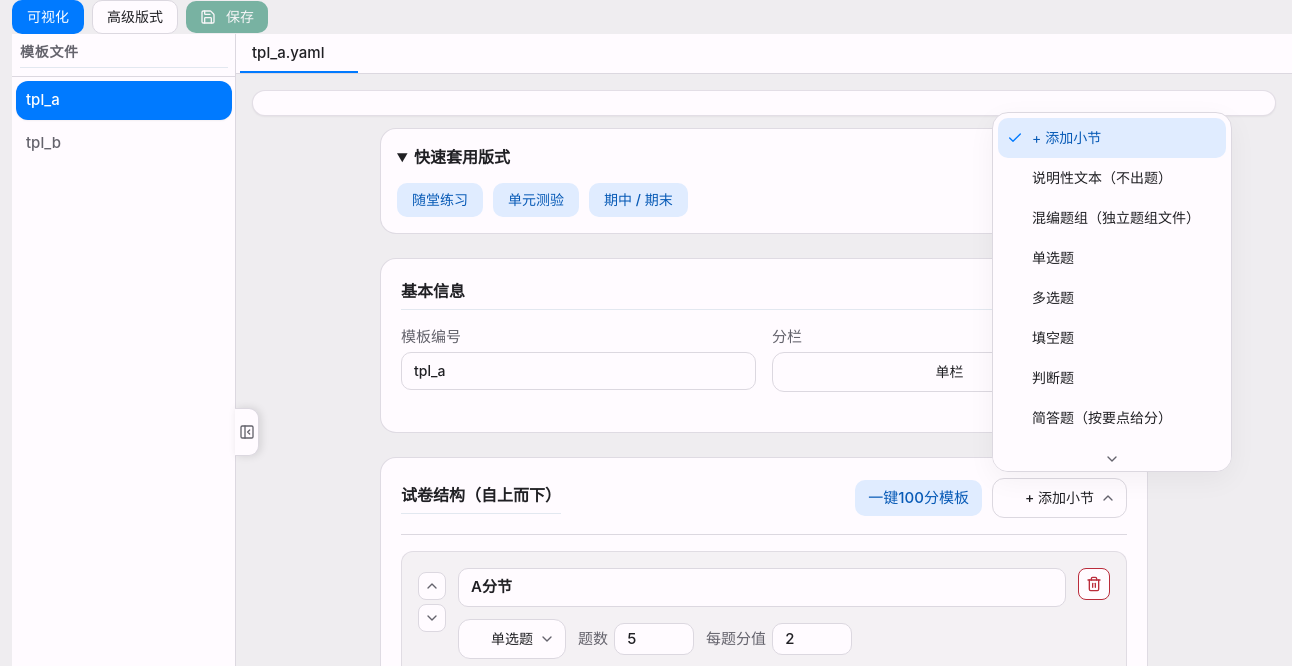
Test: TemplateWorkspace async coordination › allows user to add, configure, and remove sections
Earlier steps of the test are not shown.
Click the option "单选题". click: x=1053, y=258
box: x1=1032 y1=249 x2=1074 y2=266
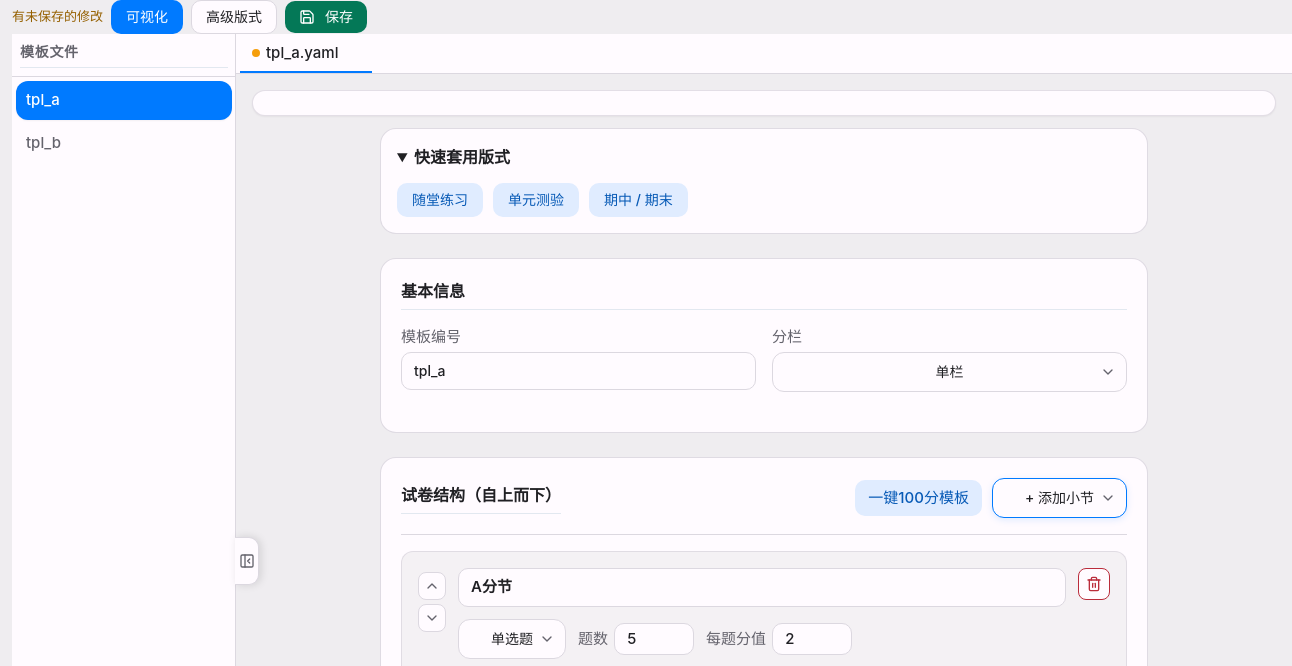
Click the dropdown labelled "+ 添加小节". click: x=1059, y=498
box: x1=992 y1=478 x2=1127 y2=518
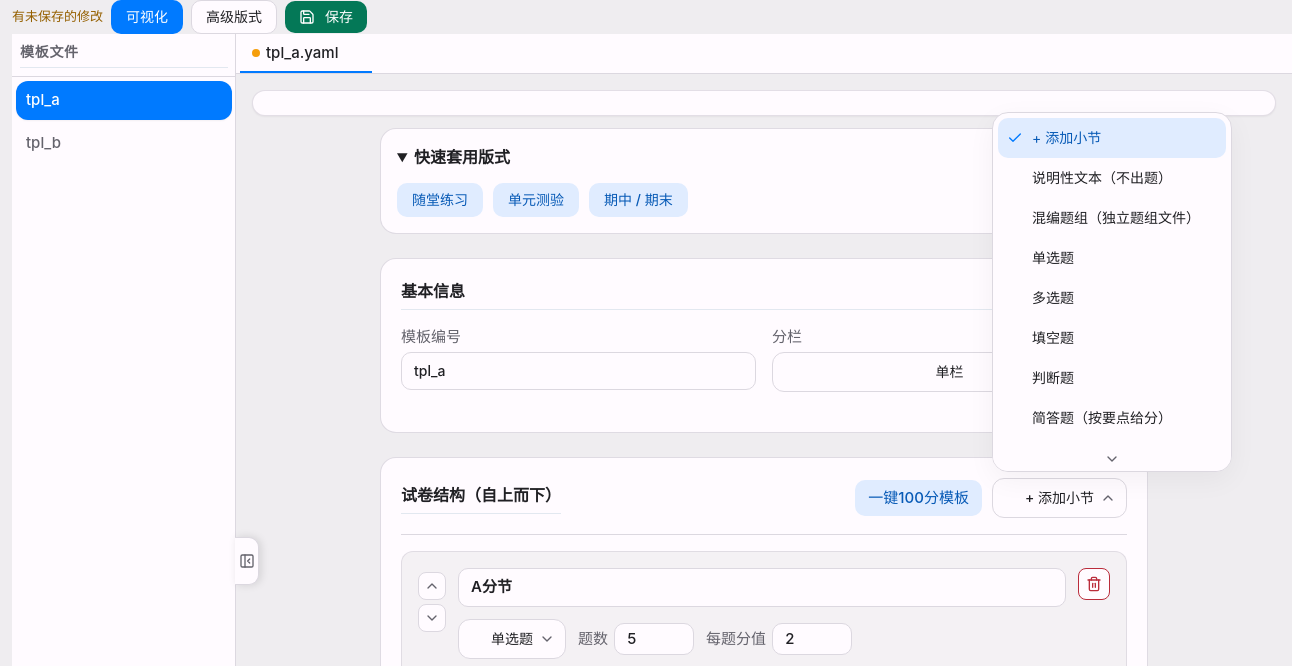
Click the option "单选题". click: x=1053, y=258
box: x1=1032 y1=249 x2=1074 y2=266
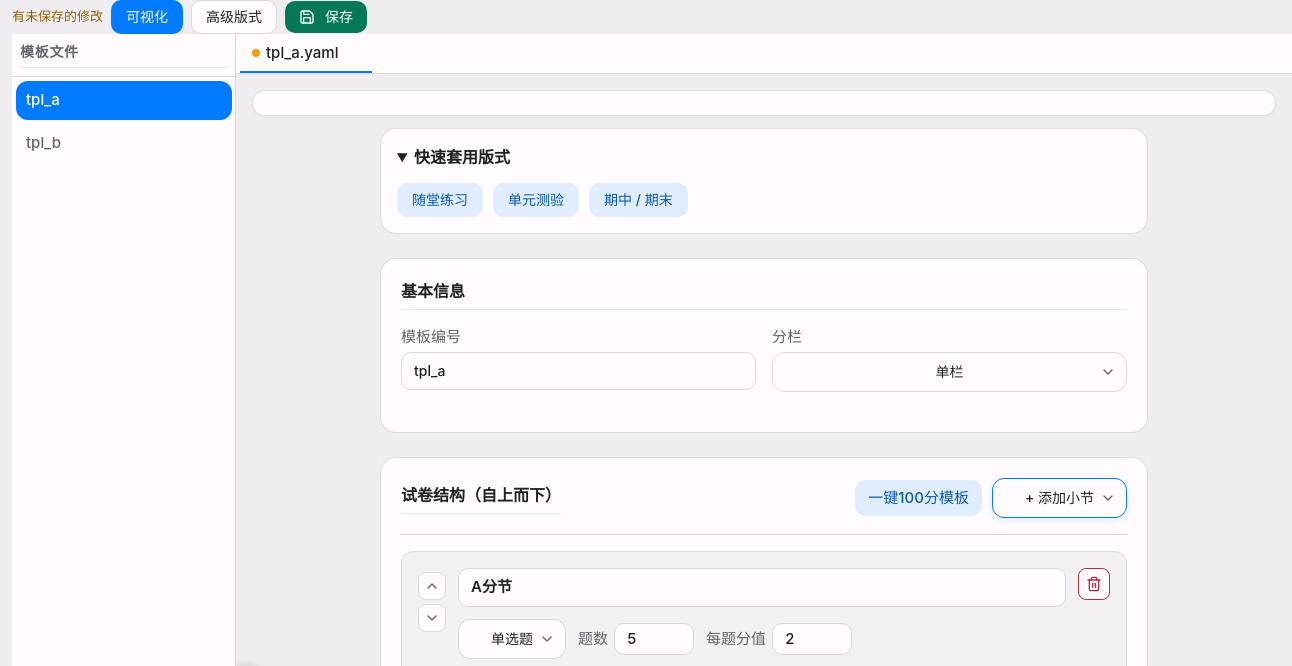
Click the dropdown labelled "+ 添加小节". click: x=1059, y=498
box: x1=992 y1=478 x2=1127 y2=518
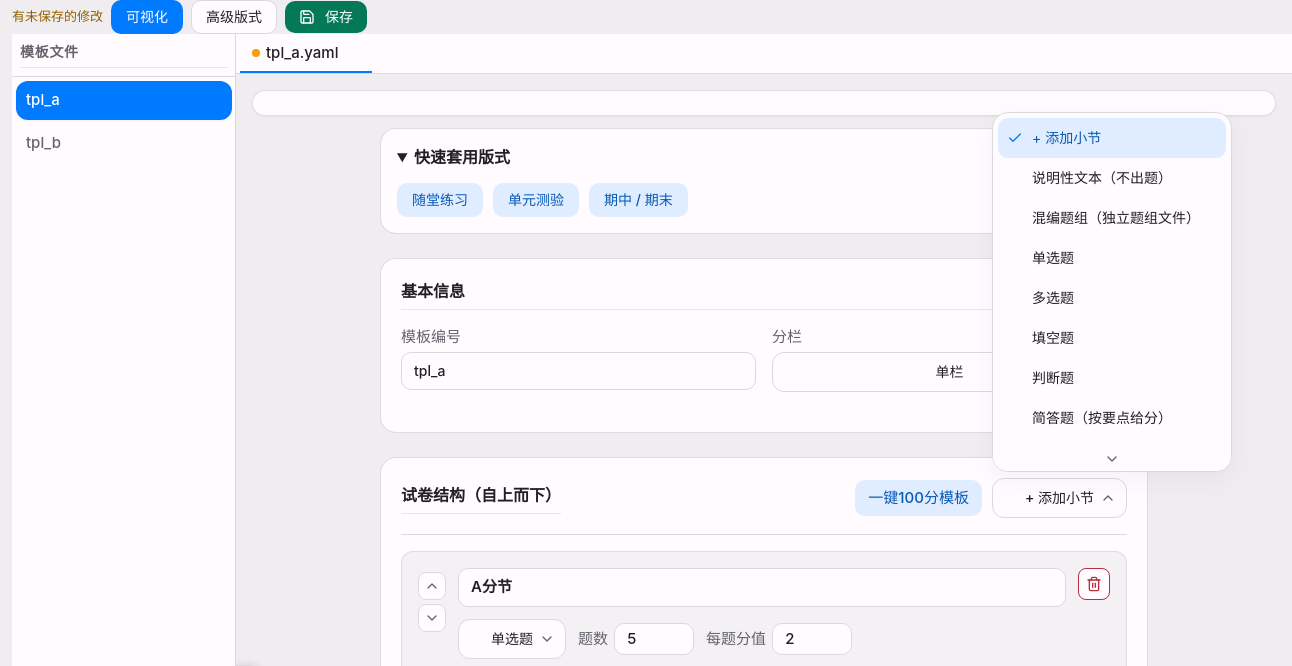
Click the option "说明性文本（不出题）". click: x=1102, y=178
box: x1=1032 y1=169 x2=1172 y2=186
(page scrolled)
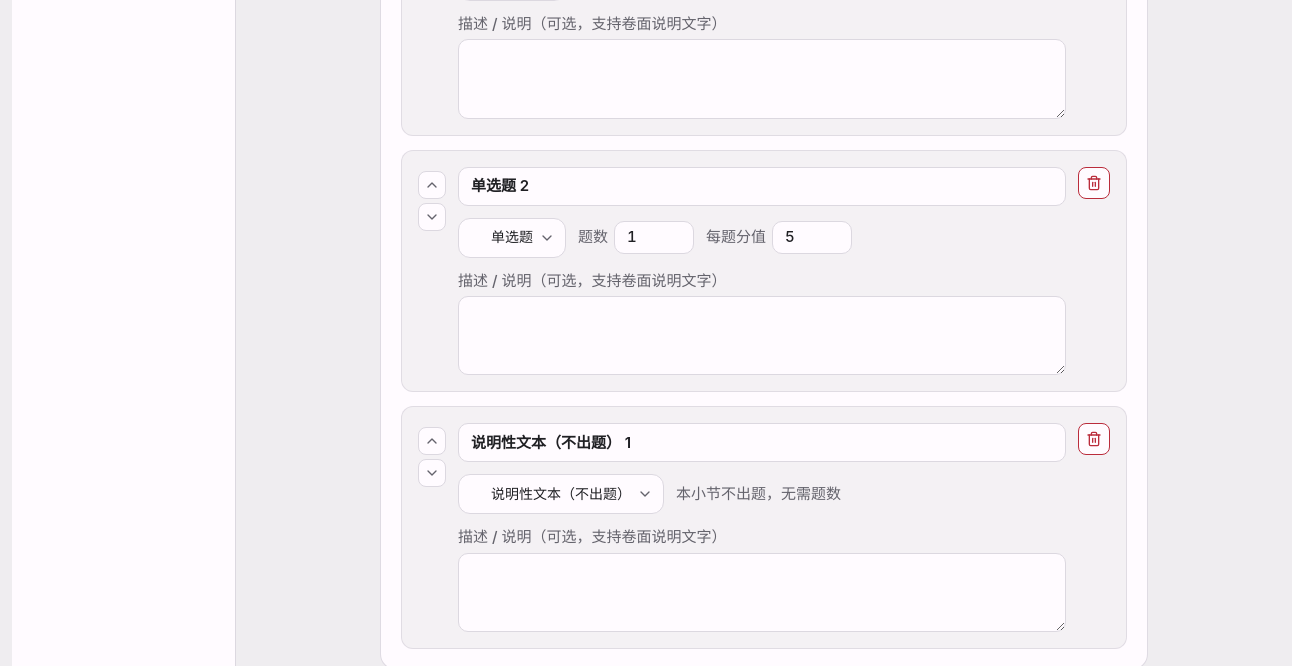
Result: the text "本小节不出题，无需题数" is shown at x1=676 y1=483 x2=841 y2=506
Click the 2nd button titled "删除小节". click: x=1094, y=439
box: x1=1078 y1=423 x2=1110 y2=455
(page scrolled)
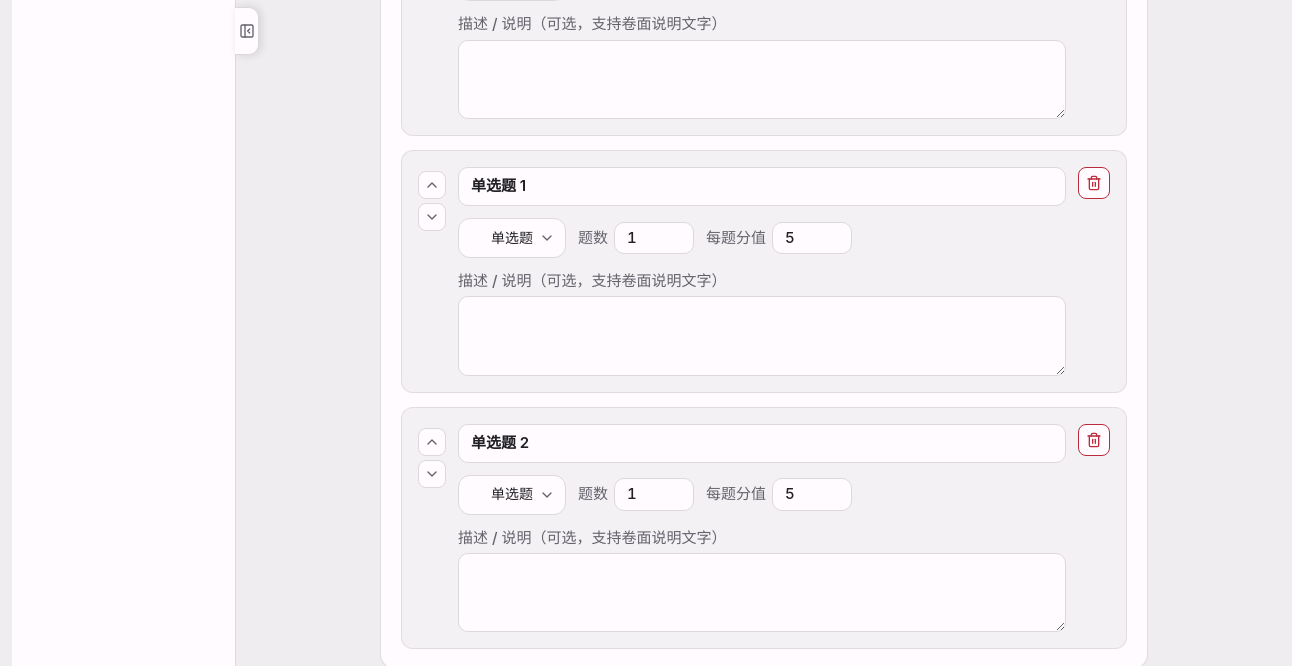
Result: the text "本小节不出题，无需题数" is gone
